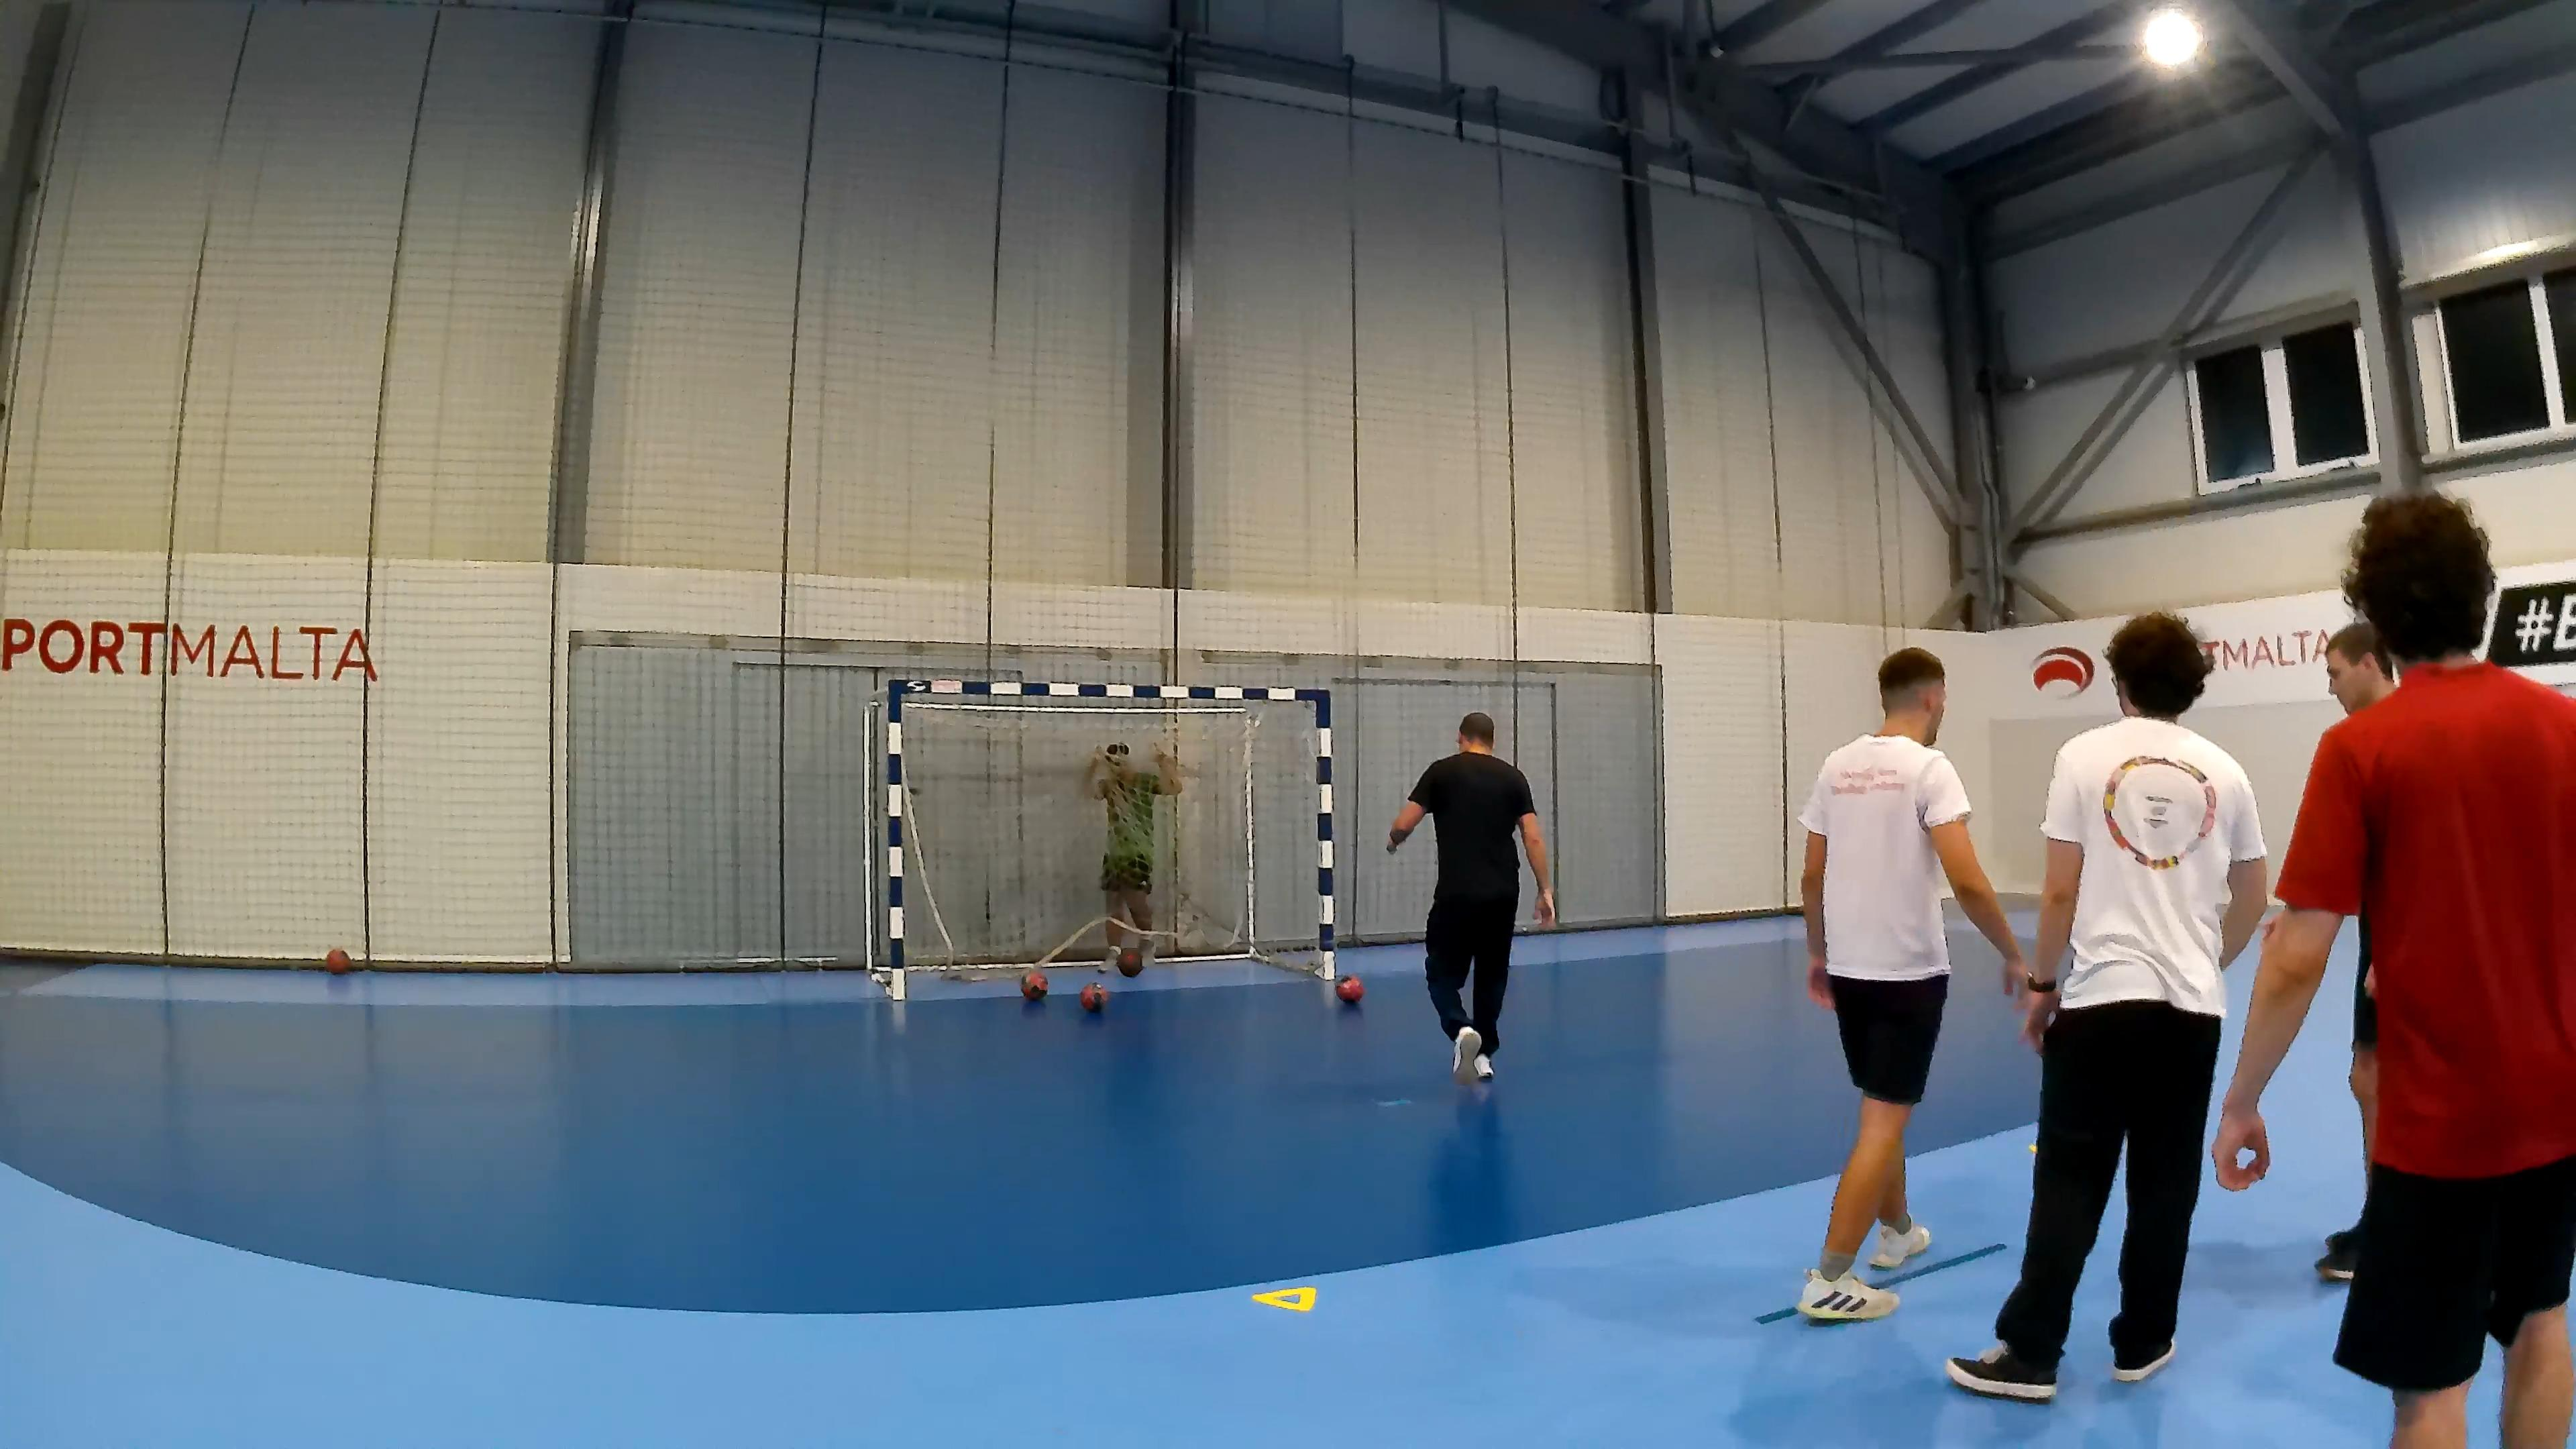handball: (1019, 970, 1047, 1000), (1079, 982, 1108, 1010), (1334, 975, 1362, 1003), (1116, 950, 1141, 977)
